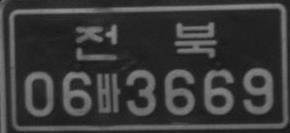0: (24, 70, 54, 118)
3: (124, 68, 157, 117)
6: (163, 67, 196, 116), (203, 67, 235, 115), (61, 69, 92, 117)
9: (242, 66, 274, 116)
바: (95, 72, 121, 113)
전북_D: (75, 21, 218, 62)
